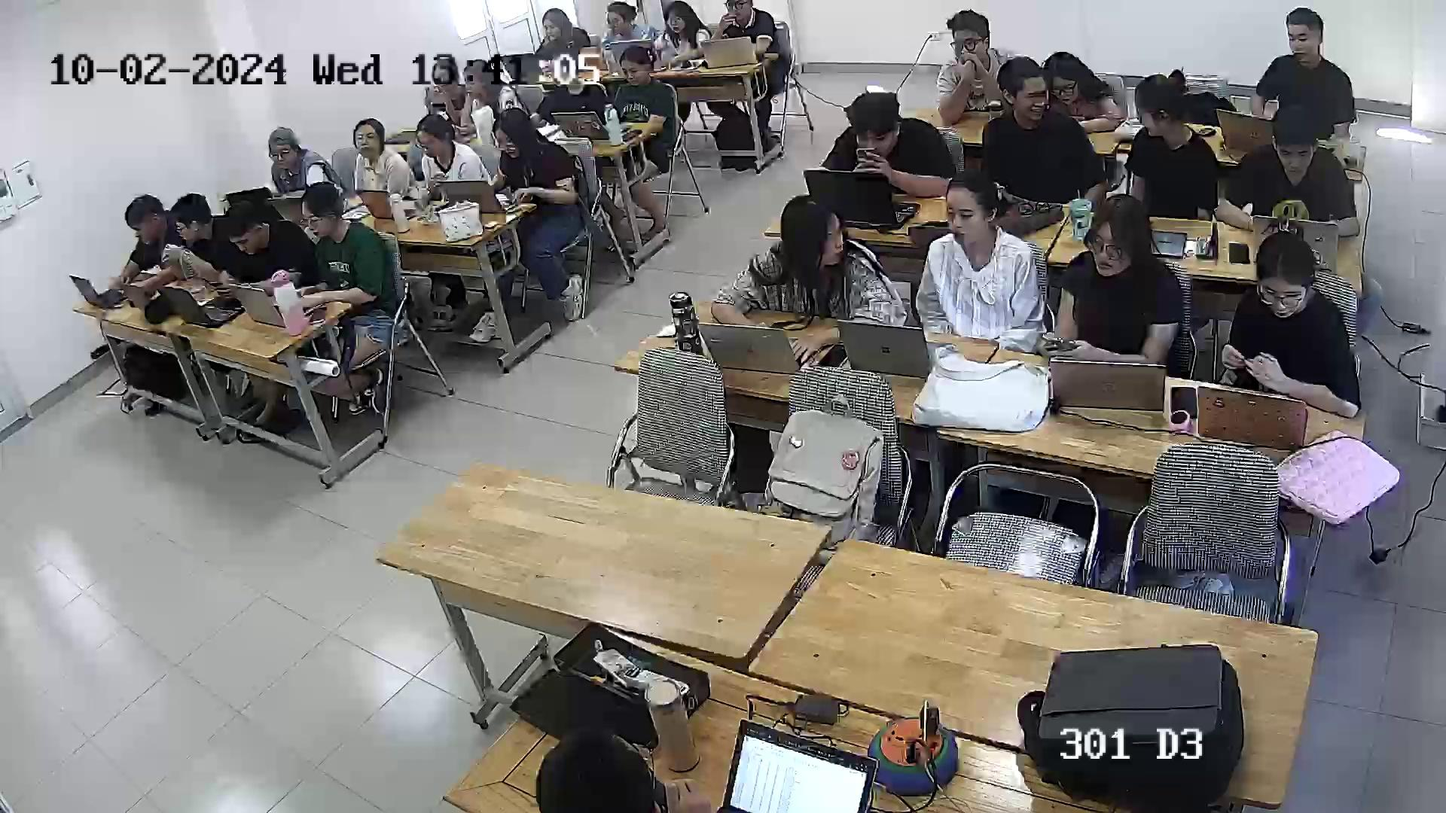Look Around: (1126, 63, 1194, 146), (996, 57, 1054, 127)
phone: (848, 138, 886, 171)
